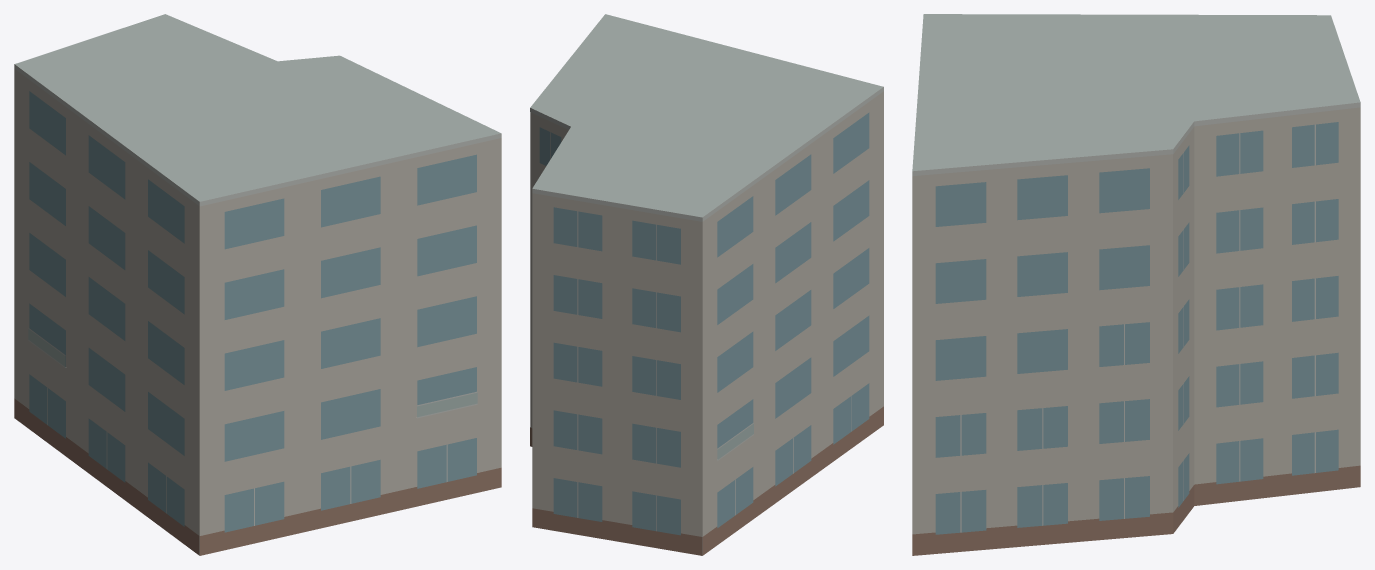
The model's file is survey-upis-32477931.glb.
3 renders of one model, left to right at view 1: azimuth 30°, elevation 25°; view 2: azimuth 150°, elevation 25°; view 3: azimuth 270°, elevation 25°, orthographic. The views are drawn at different scales.
Visible parts, largest first — view 1: survey-upis-32477931.tmp; view 2: survey-upis-32477931.tmp; view 3: survey-upis-32477931.tmp.
Part boxes in pixels (left/top/right/bottom): survey-upis-32477931.tmp: left=14, top=14, right=501, bottom=555; survey-upis-32477931.tmp: left=530, top=14, right=883, bottom=555; survey-upis-32477931.tmp: left=912, top=14, right=1360, bottom=555.
Bounding box in the file's own units: 16.47 × 18.78 × 19.85.
